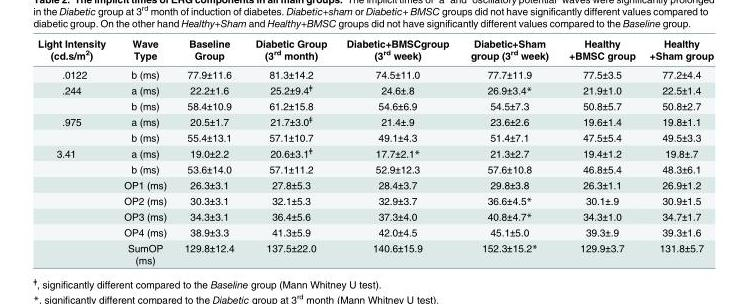table: (37, 37, 713, 265)
table column: (336, 37, 459, 265), (459, 37, 558, 265), (244, 37, 336, 265), (558, 37, 641, 265), (37, 37, 114, 265), (641, 37, 713, 265), (174, 37, 244, 265), (114, 37, 174, 265)
table column header: (37, 37, 713, 64)
table row: (37, 37, 713, 64), (37, 239, 713, 265), (37, 80, 713, 97), (37, 112, 713, 129), (37, 144, 713, 161), (37, 64, 713, 80), (37, 176, 713, 192), (37, 192, 713, 208), (37, 208, 713, 224), (37, 97, 713, 112), (37, 129, 713, 144), (37, 161, 713, 176), (37, 224, 713, 239)
table spanning cell: (37, 144, 114, 265), (37, 80, 114, 112), (37, 112, 114, 144)
